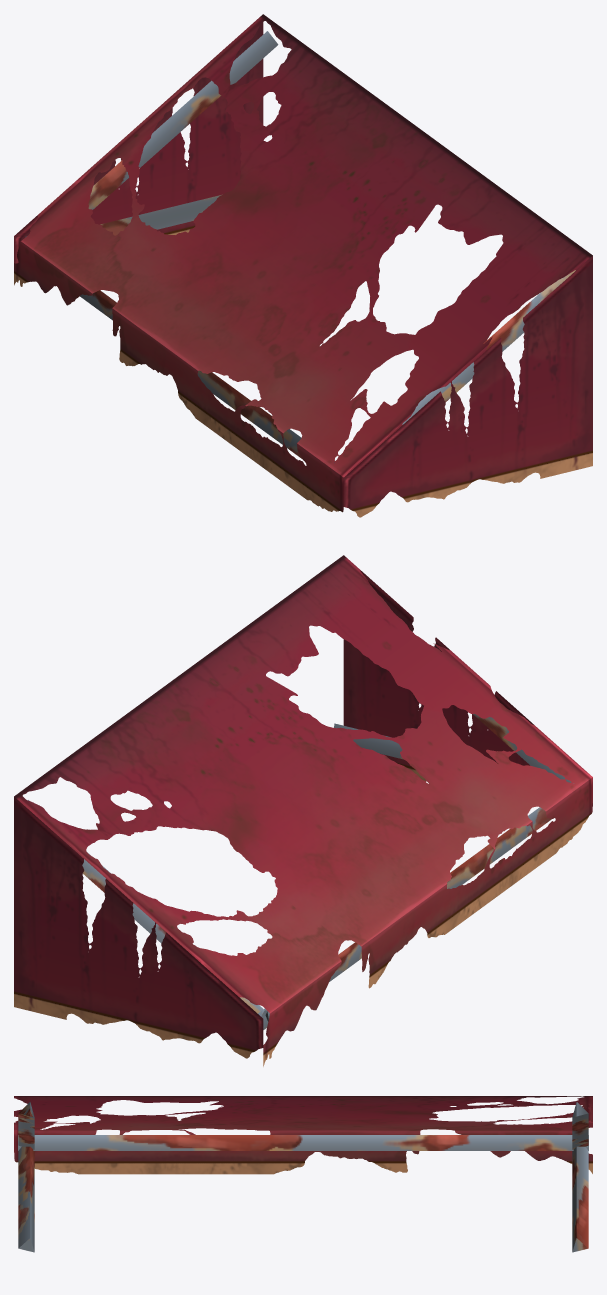
Rendered from awning01.fbx.
The picture shows the model from 3 angles, top to bottom: view 1: azimuth 30°, elevation 25°; view 2: azimuth 150°, elevation 25°; view 3: azimuth 270°, elevation 25°; orthographic projection. The views are drawn at different scales.
Parts seen in each view (by area): view 1: awning01; view 2: awning01; view 3: awning01.
Boxes of the visible parts, x1,y1,x2,y2 form: awning01: [14, 14, 592, 517]; awning01: [14, 555, 592, 1066]; awning01: [14, 1096, 592, 1252].
Bounding box in the file's own units: 132 × 105 × 298.
